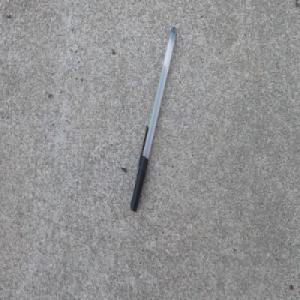Pen: (130, 24, 178, 213)
